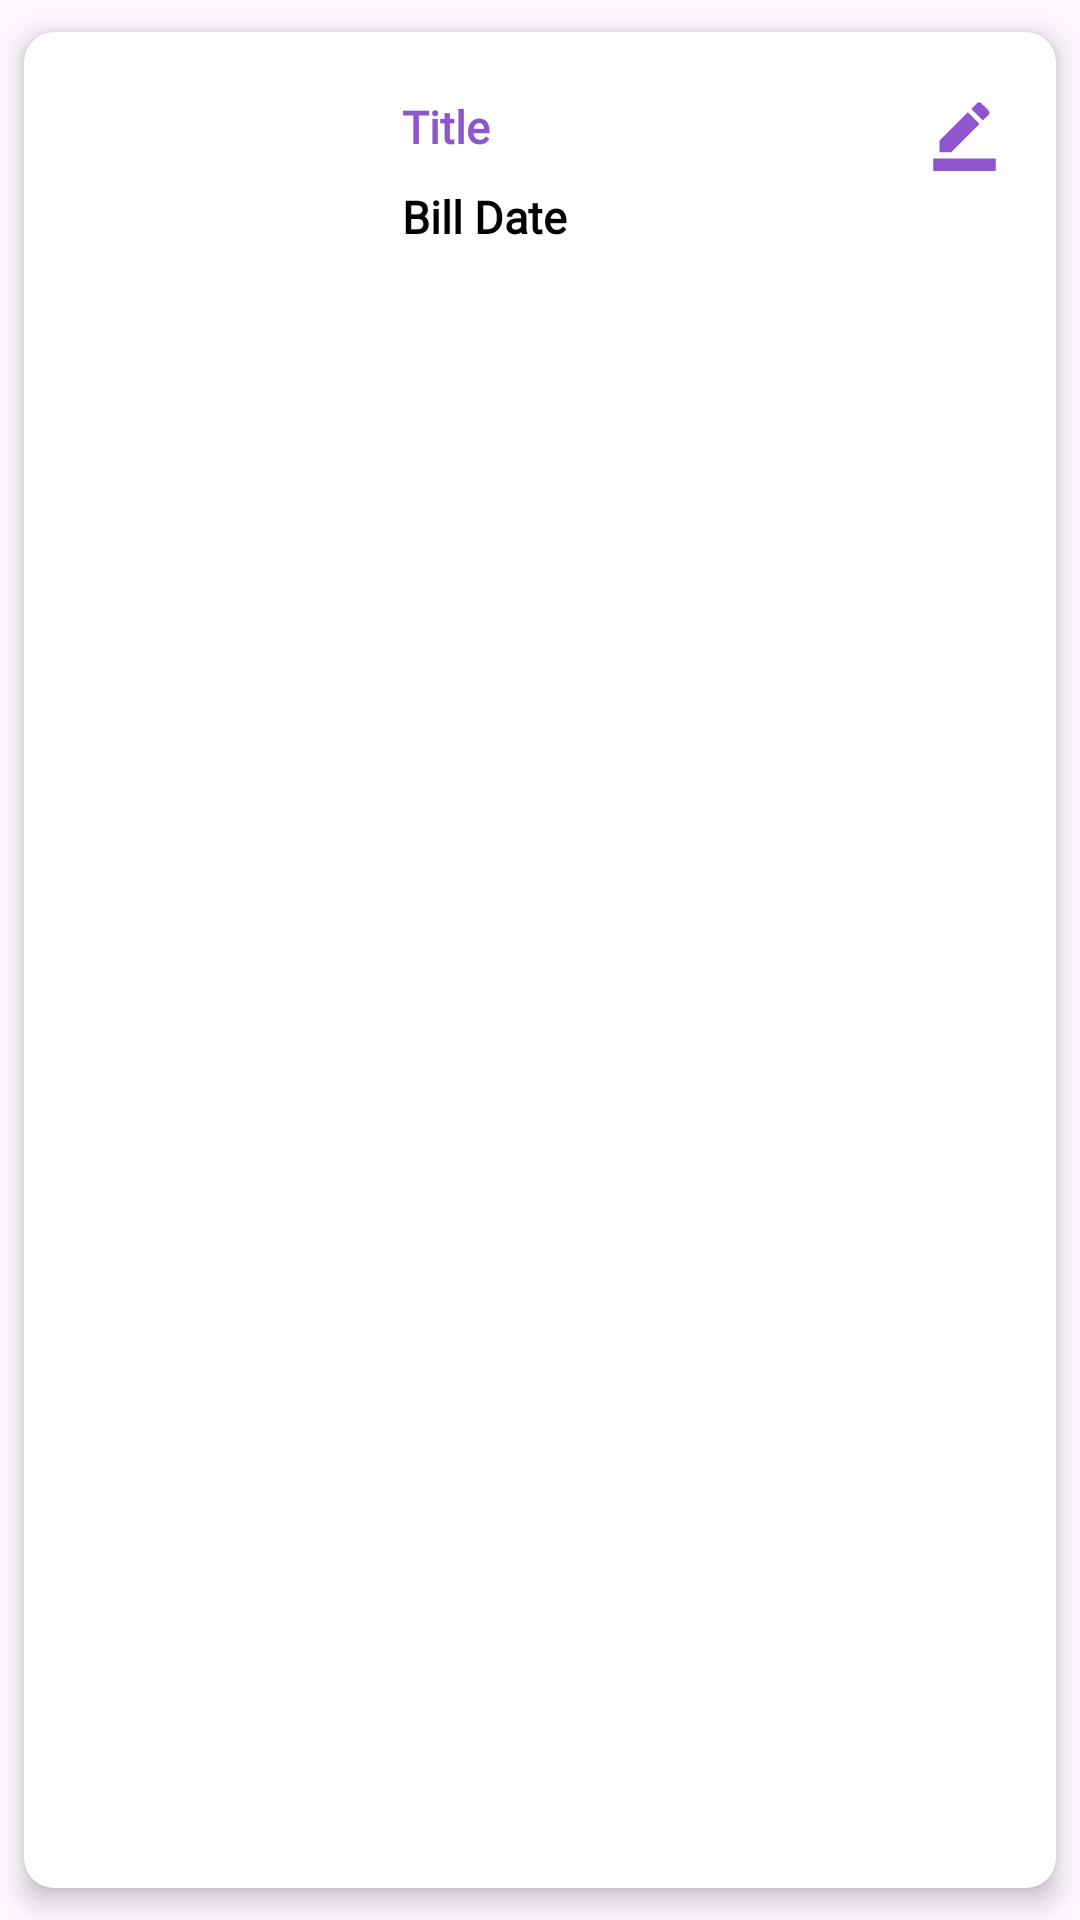

Icon bounding boxes for this 1080w x 1920h phone screenshot, format box(x1, y1, x2, y2):
edit: box(933, 102, 996, 171)
